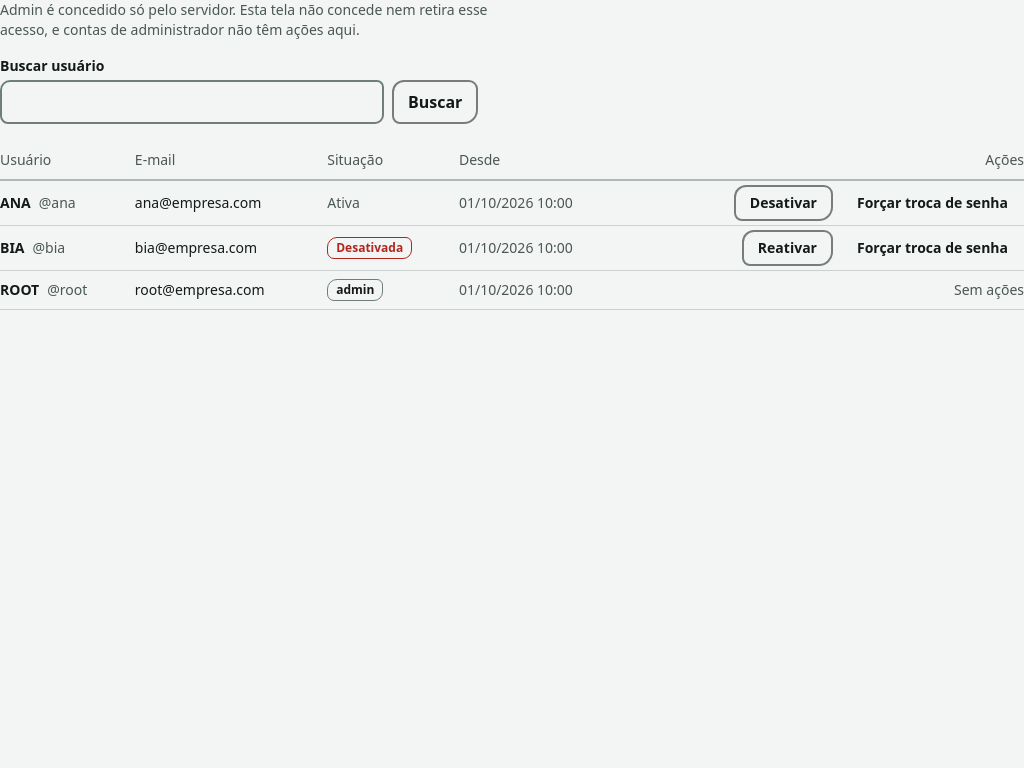
usuários › 403 target_is_admin vira toast e o modal fecha
Click the button "Desativar": (783, 203) [734,185,833,221]
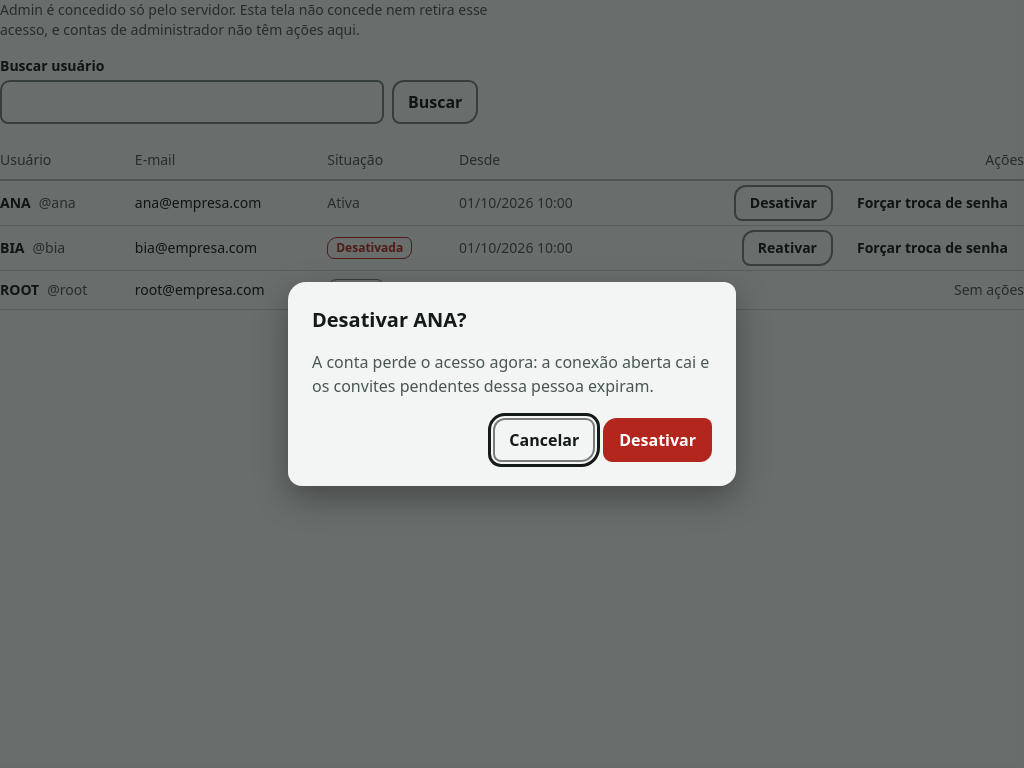
Click the button "Desativar": (658, 440) [603,418,712,462]
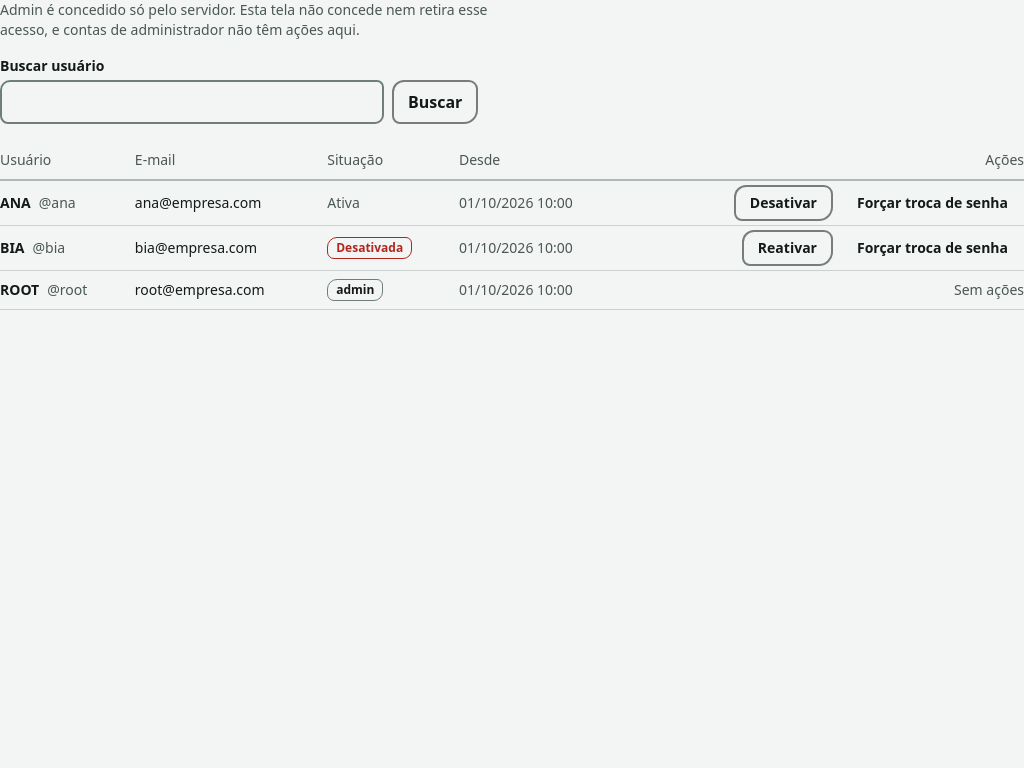
Now the dialog is gone
